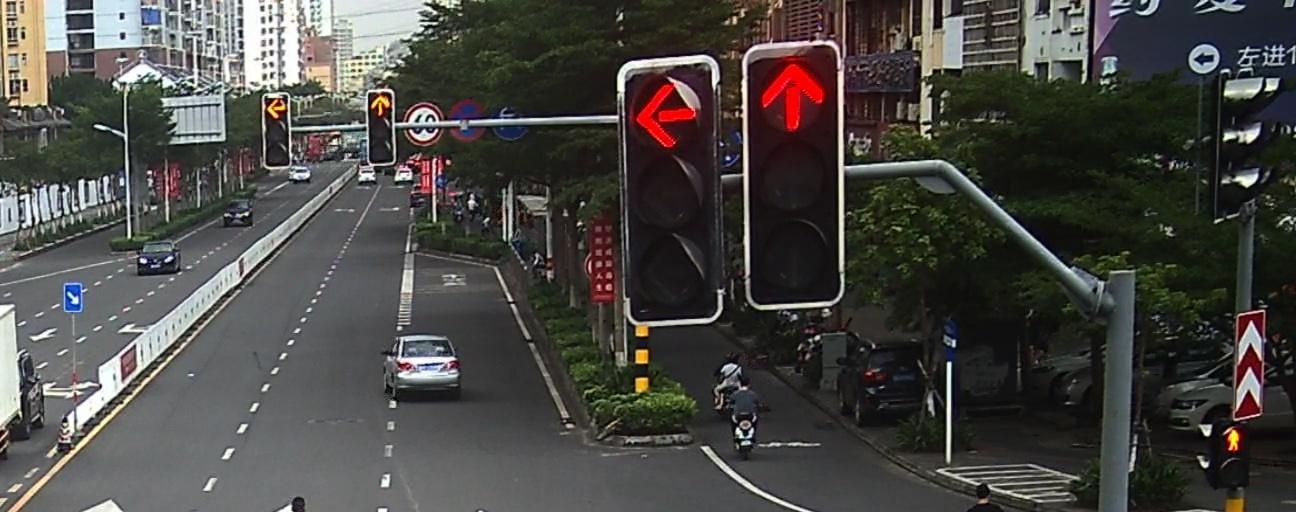redleft: (631, 80, 700, 153), (264, 93, 289, 121)
redpeople: (1220, 422, 1247, 456)
redstraight: (756, 58, 829, 132), (368, 92, 391, 117)
